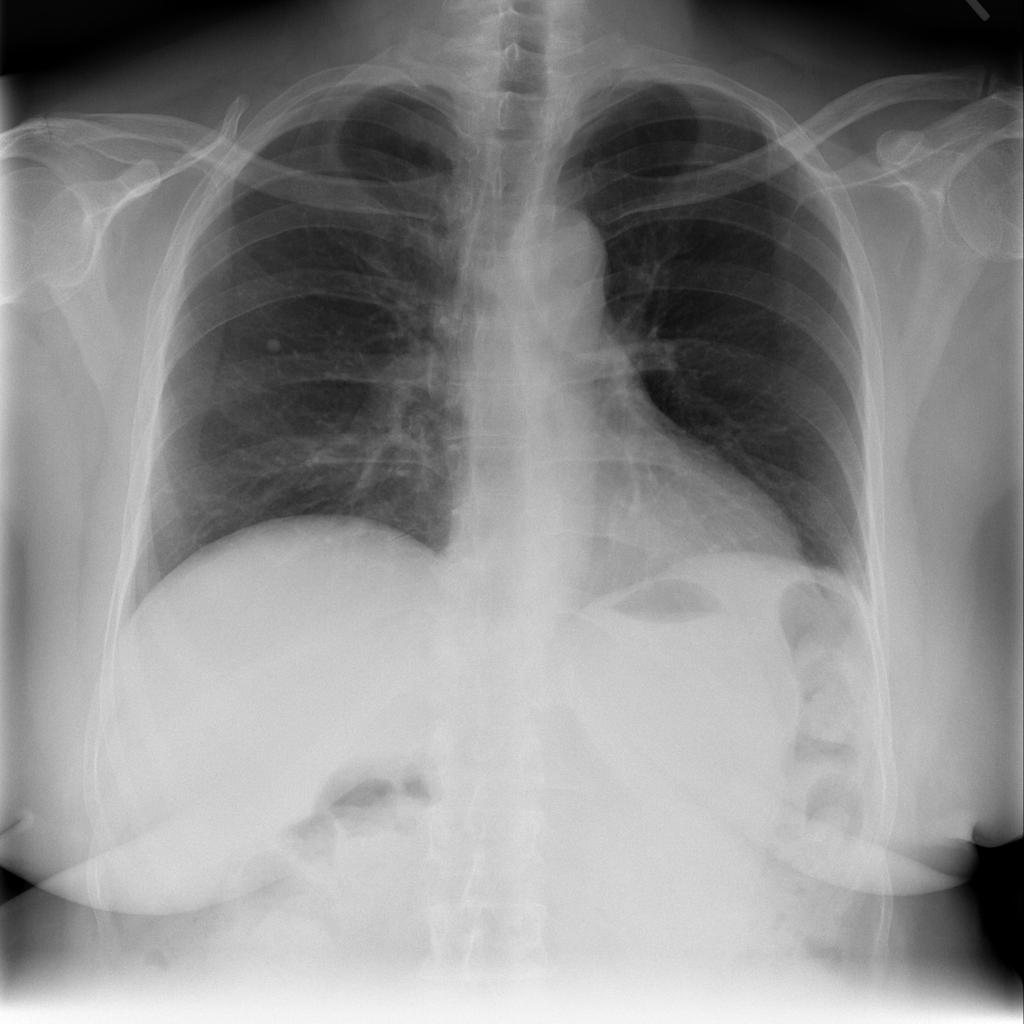nodule: (246, 322, 298, 369)
